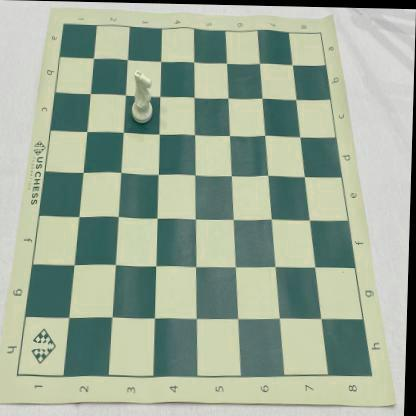white-knight: (132, 68, 156, 124)
